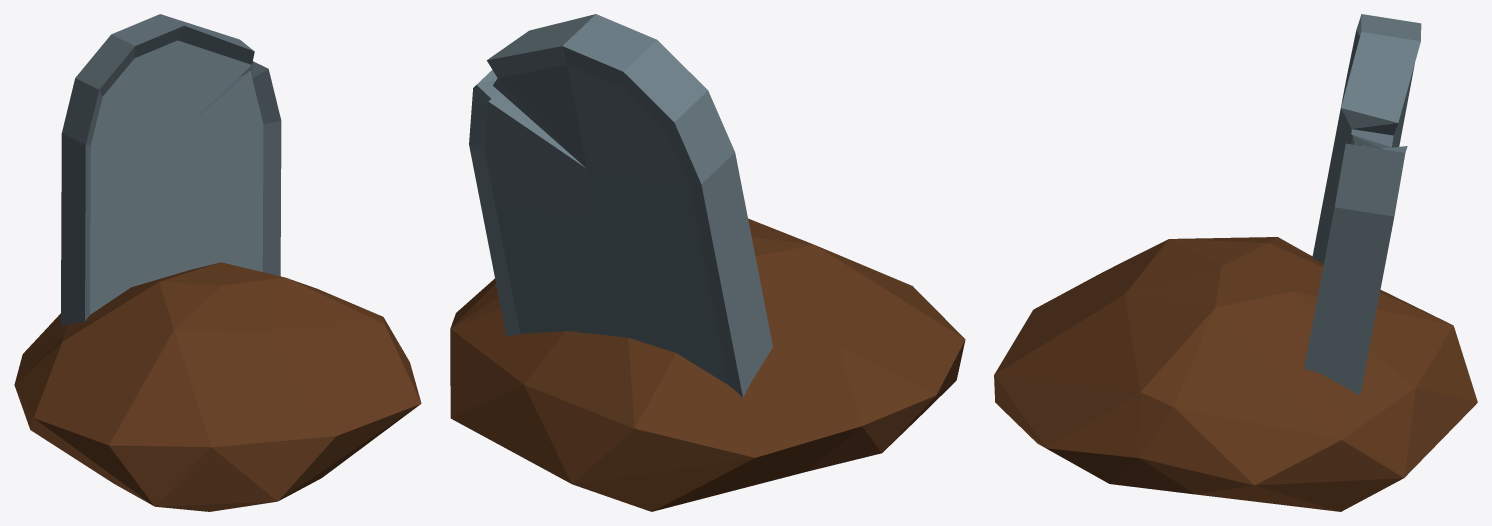
File: C_Lapide4.fbx
3 renders of one model, left to right at view 1: azimuth 30°, elevation 25°; view 2: azimuth 150°, elevation 25°; view 3: azimuth 270°, elevation 25°, orthographic. The views are drawn at different scales.
Parts seen in each view (by area): view 1: Cylinder; view 2: Cylinder; view 3: Cylinder.
Part boxes in pixels (bbox=[...]): Cylinder: bbox=[14, 14, 421, 511]; Cylinder: bbox=[450, 14, 965, 511]; Cylinder: bbox=[994, 14, 1477, 511].
Size of the model in its own units: 436 by 416 by 423.
